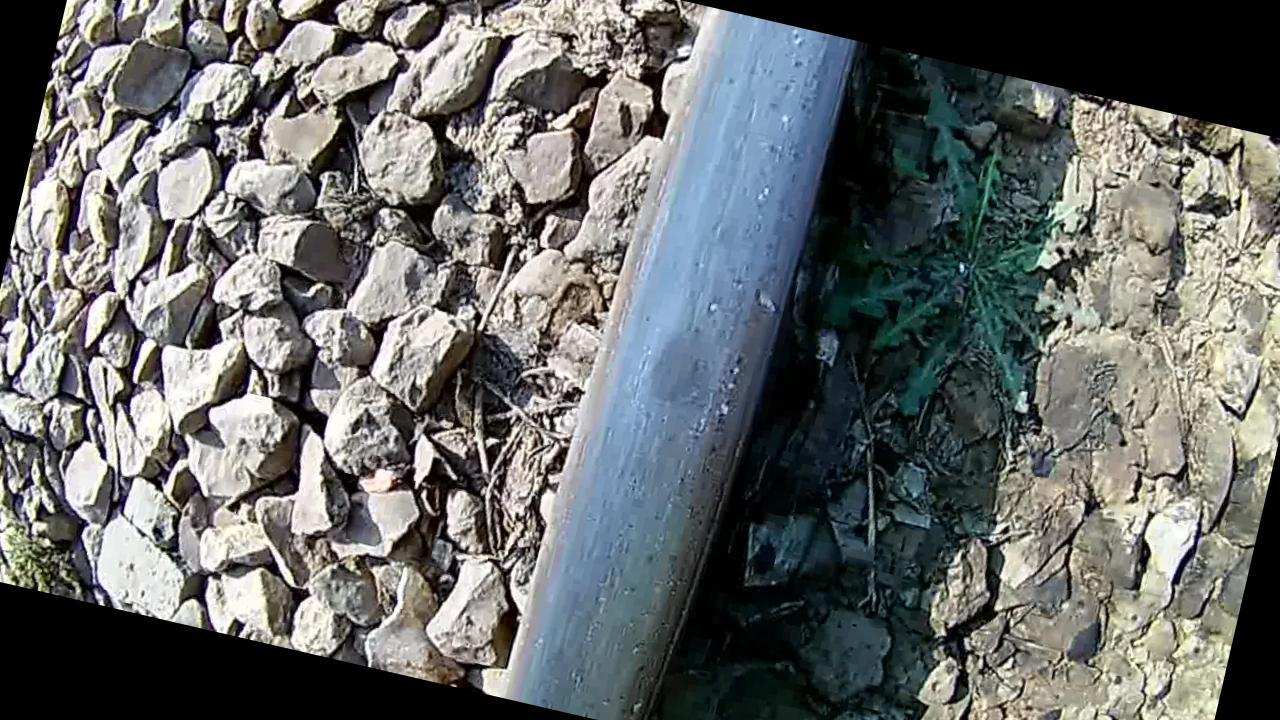bolt_missing: (589, 281, 783, 470)
